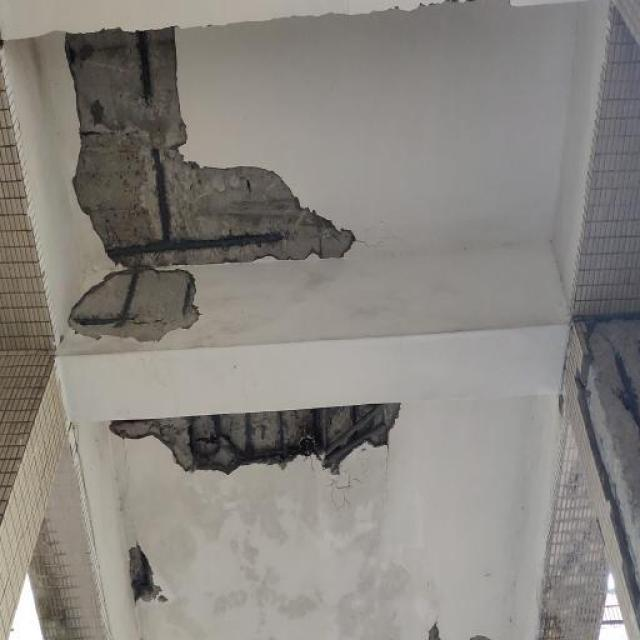D0w0: (69, 29, 352, 341), (539, 4, 639, 638), (111, 404, 400, 472), (130, 546, 164, 600)
